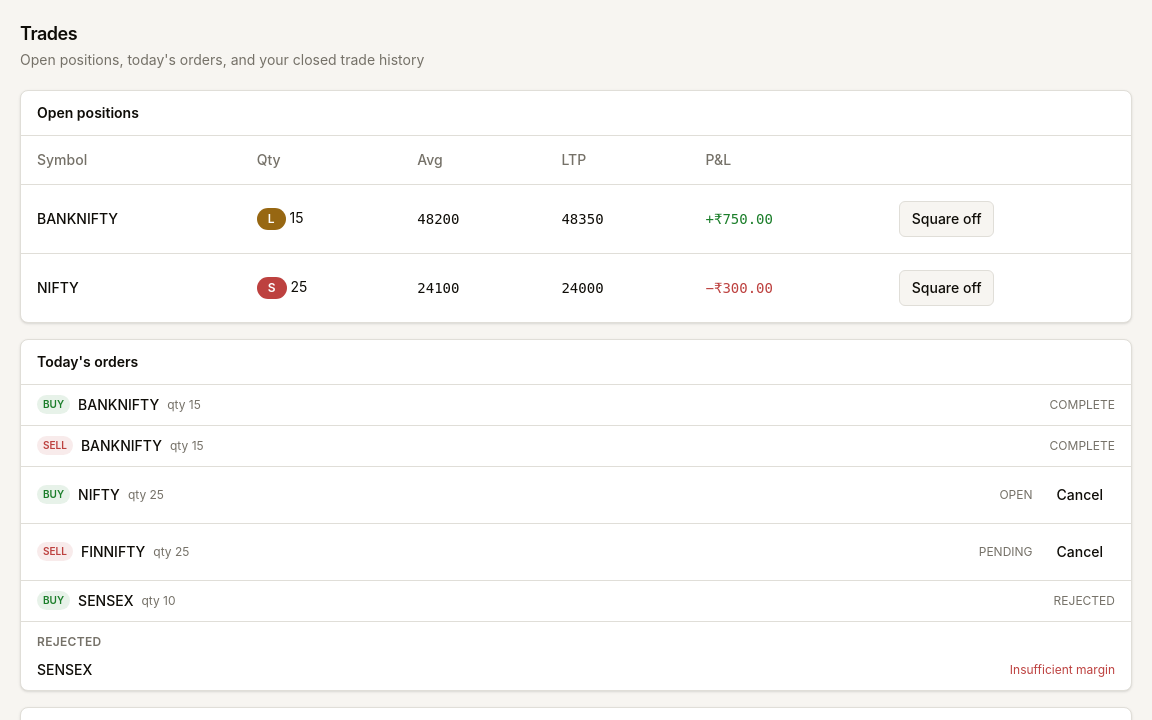
Test: TradesPage › asks for confirmation before squaring off a position
This screenshot has width=1152, height=720.
Click the button "Square off" in the row of "48200".
click(947, 218)  # box x1=899 y1=200 x2=994 y2=236
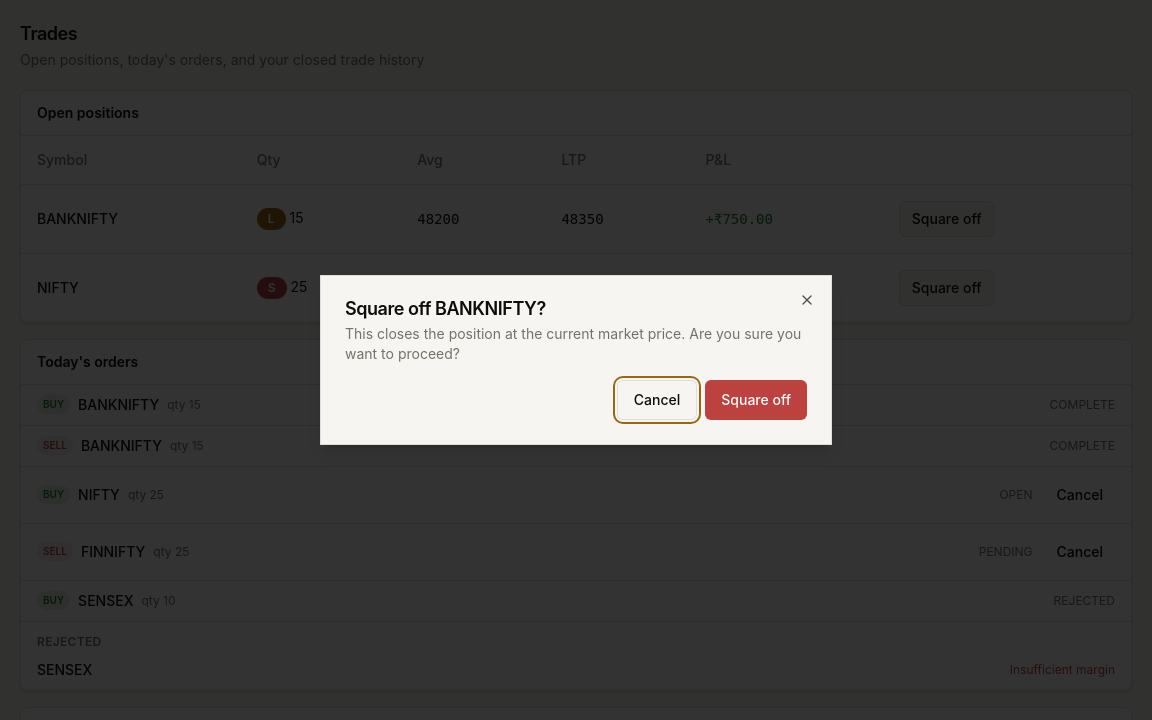
Check: the text "Are you sure" is shown, box x1=345 y1=325 x2=801 y2=362
